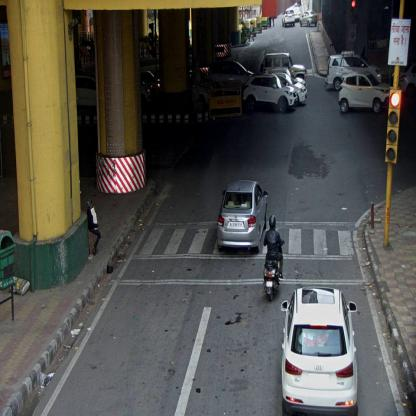car: (280, 287, 358, 415), (217, 179, 269, 254), (243, 73, 298, 113), (338, 73, 389, 114), (326, 52, 379, 91), (207, 62, 252, 94), (262, 52, 308, 82), (299, 11, 317, 27), (281, 8, 294, 27)
motorcycle: (262, 214, 285, 301)
